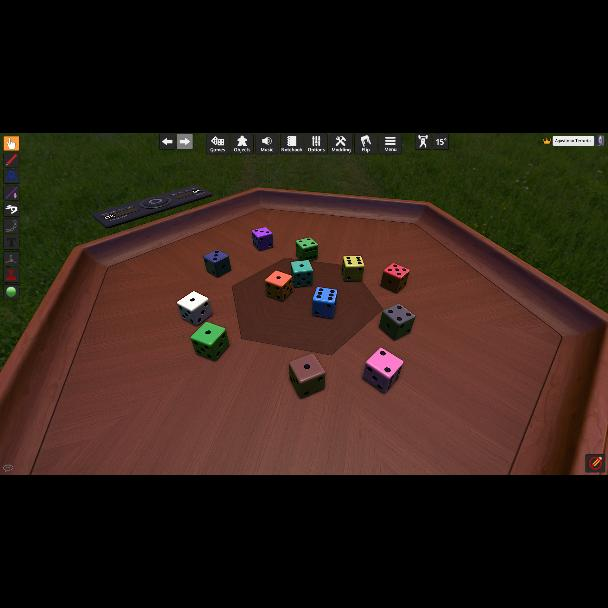d6: (363, 348, 403, 394), (288, 354, 324, 398), (190, 322, 228, 362), (178, 290, 212, 328), (380, 304, 415, 340), (264, 270, 294, 302), (380, 262, 410, 294), (202, 250, 230, 278), (312, 288, 337, 318), (290, 260, 313, 288), (342, 255, 363, 282), (295, 237, 317, 261), (252, 228, 272, 252)
